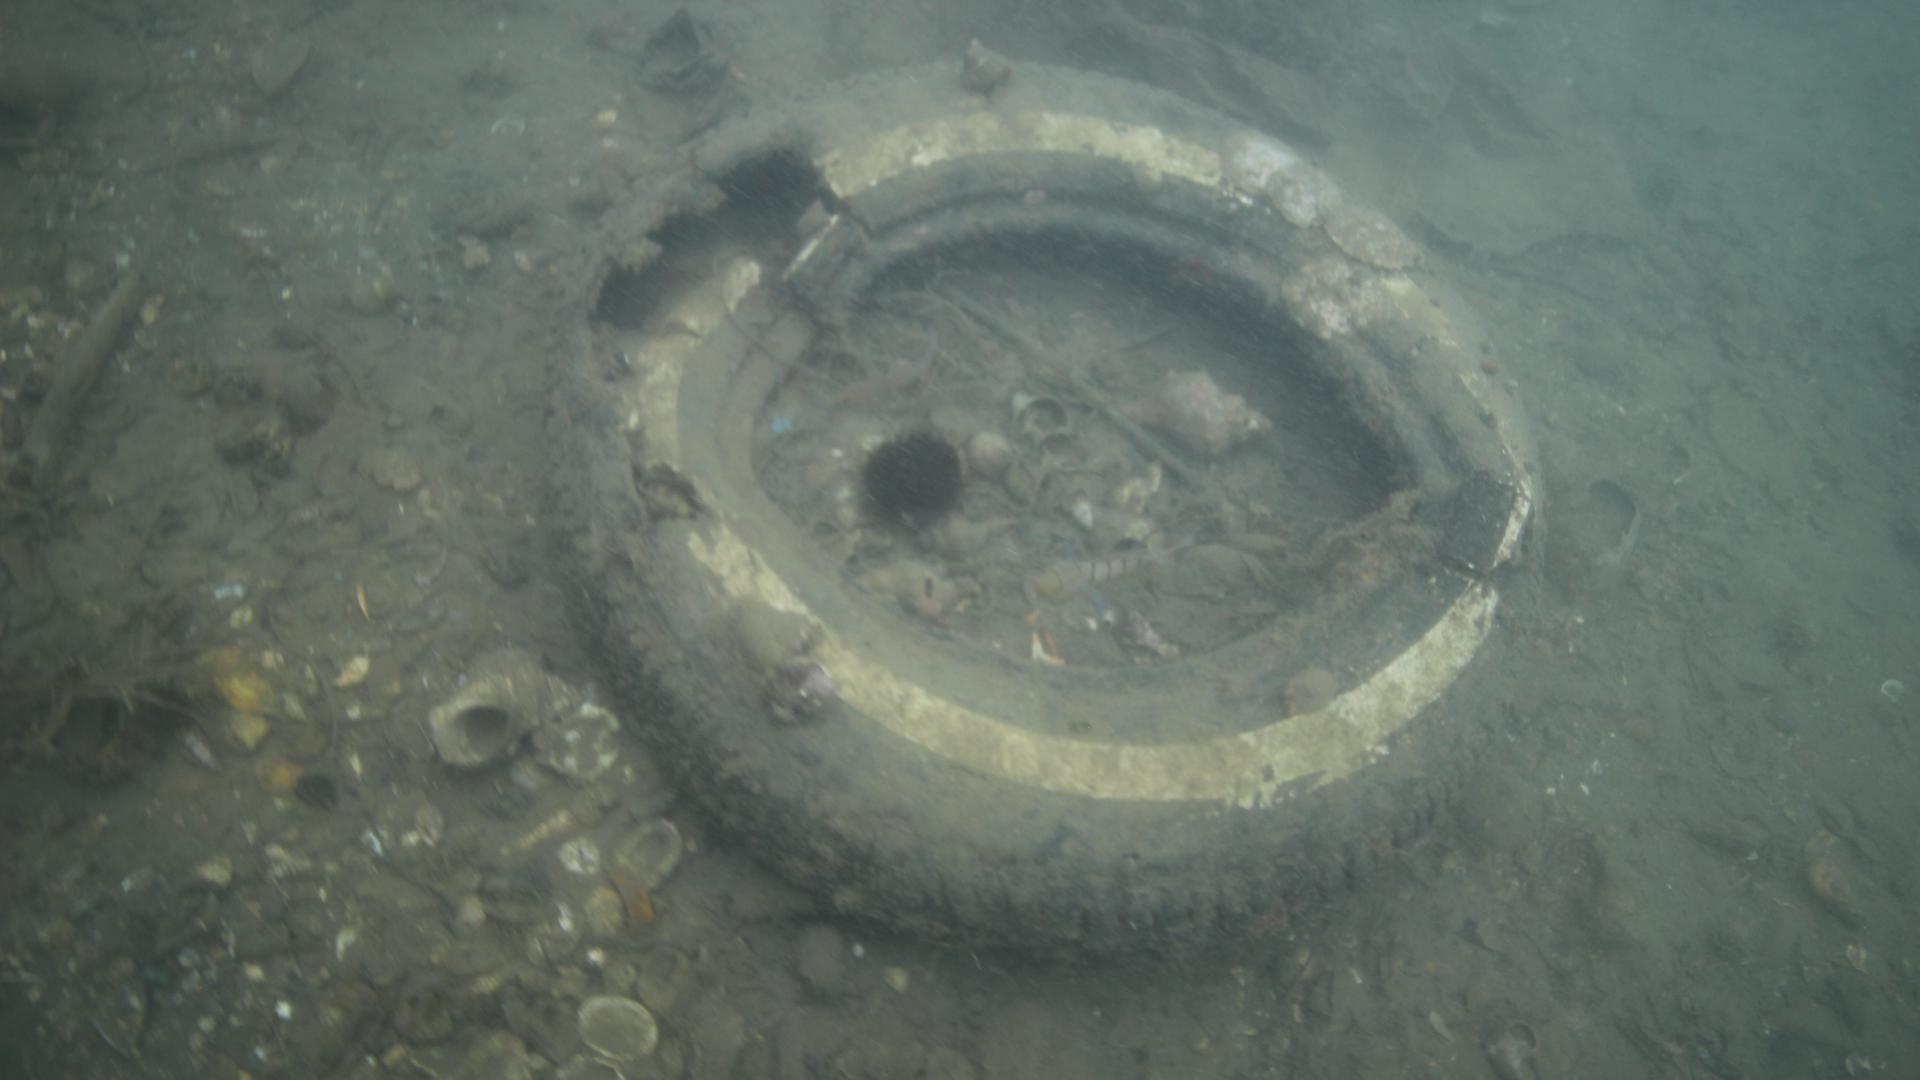tire: (541, 53, 1542, 978)
